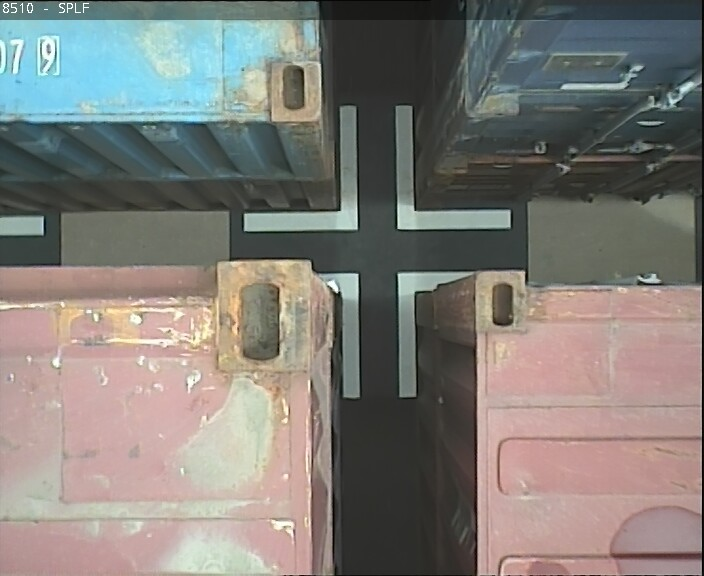groundmarker_1: (238, 106, 509, 234)
